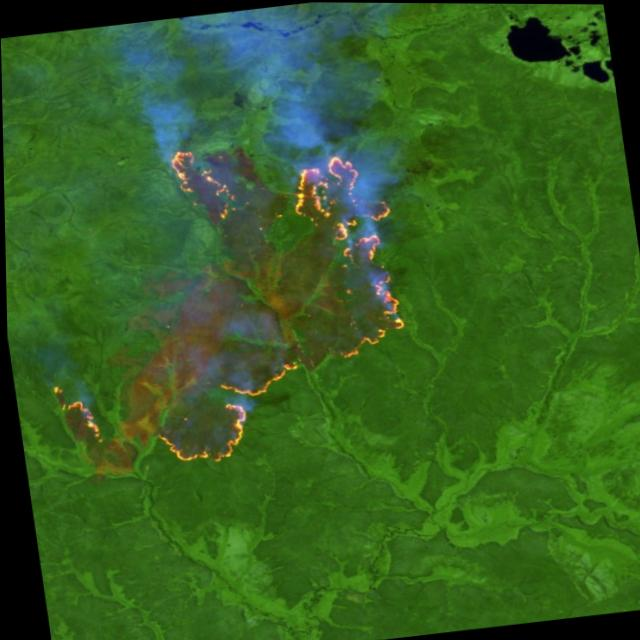fire: (15, 121, 428, 480)
